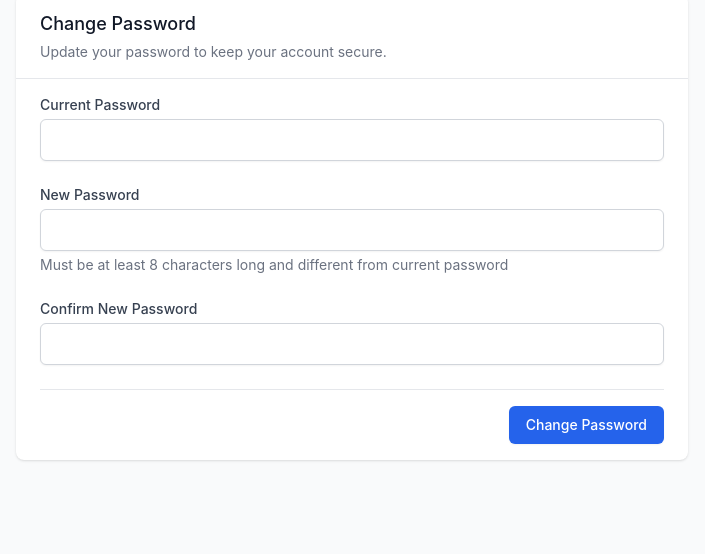
Test: PasswordChangeForm › shows success message after successful password change
The image size is (705, 554).
Step 1. Type "oldpassword123" into the password field labelled "Current Password" → (352, 140), box [40, 119, 664, 161]
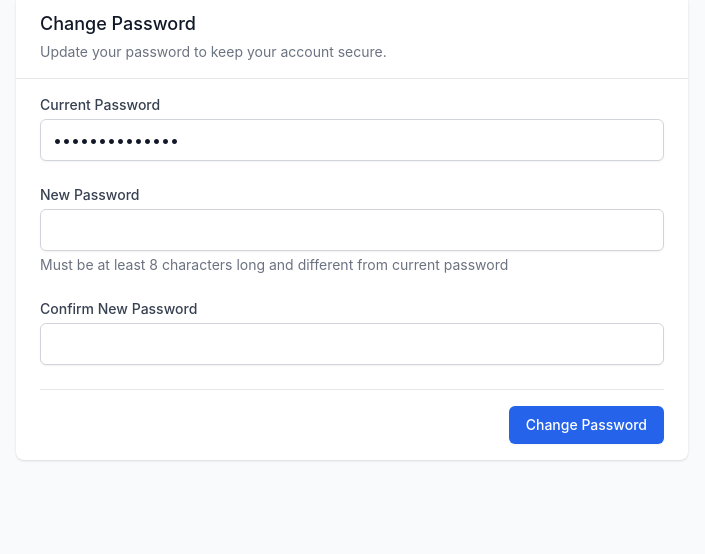
Step 2. Type "newpassword123" into the password field labelled "New Password" → (352, 230), box [40, 209, 664, 251]
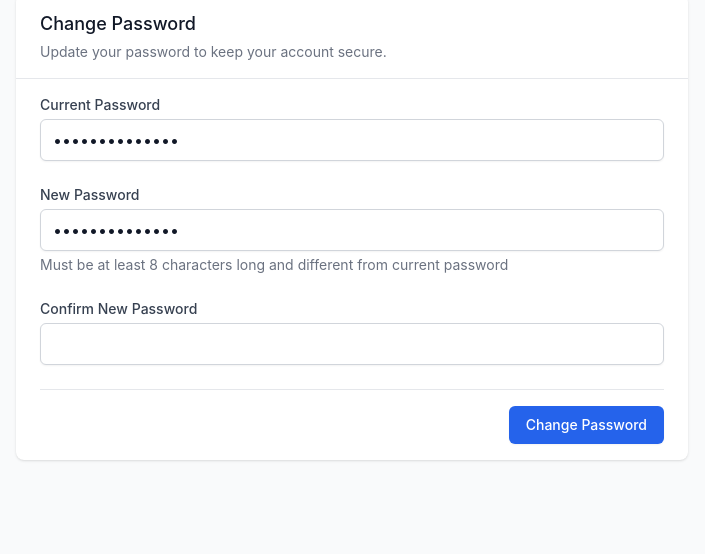
Step 3. Type "newpassword123" into the password field labelled "Confirm New Password" → (352, 344), box [40, 323, 664, 365]
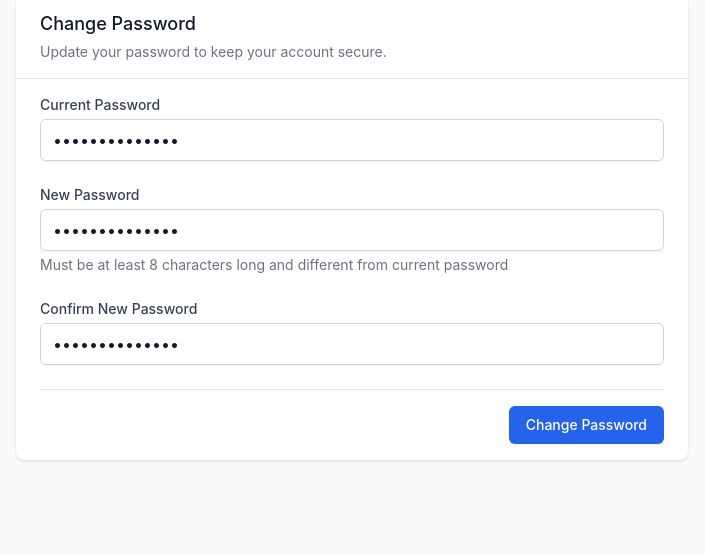
Step 4. Click the button "Change Password" → click(586, 425), box [509, 406, 664, 444]
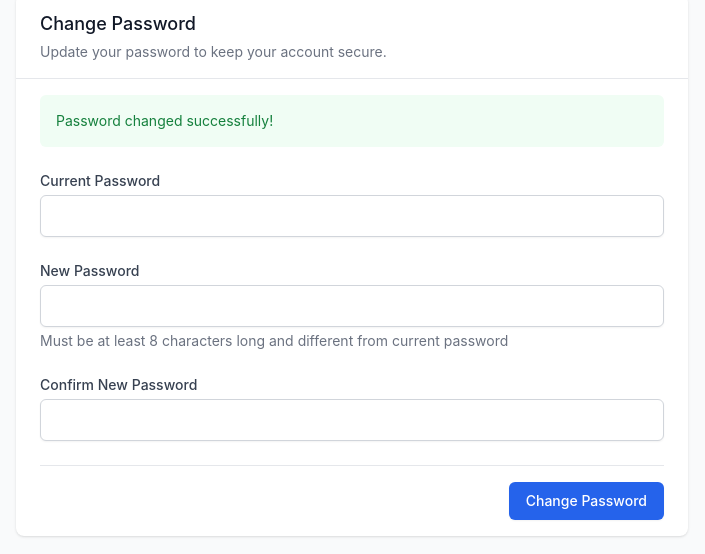
Expected: the text "Password changed successfully!" is shown, [56, 112, 273, 129]
Expected: the password field labelled "Current Password" is empty, [40, 195, 664, 237]
Expected: the password field labelled "New Password" is empty, [40, 285, 664, 327]
